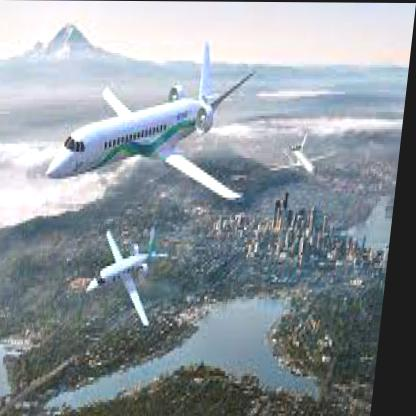Aircraft: (48, 39, 261, 201), (91, 227, 171, 325), (276, 132, 342, 176)
